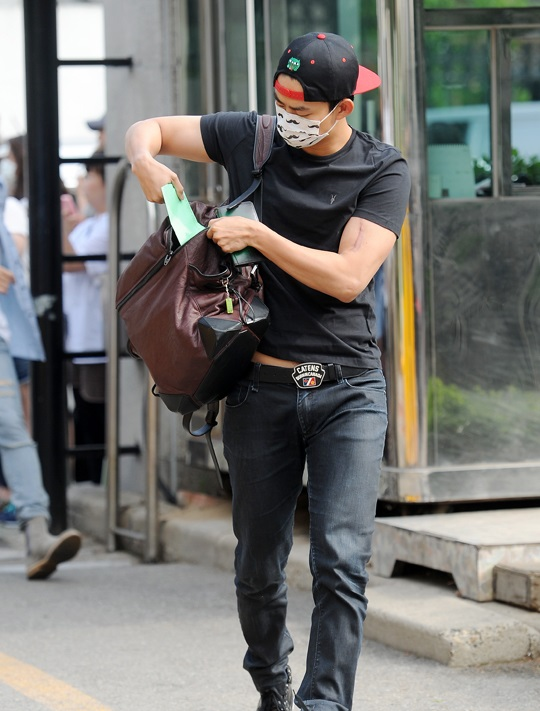face_mask: (274, 77, 331, 147)
